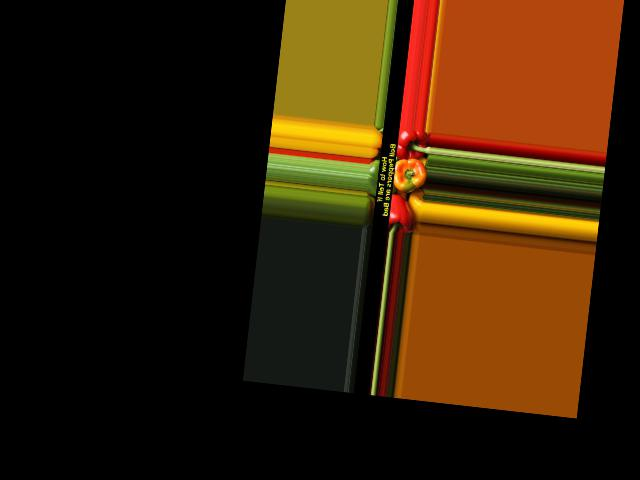bell_pepper: (393, 129, 431, 163)
